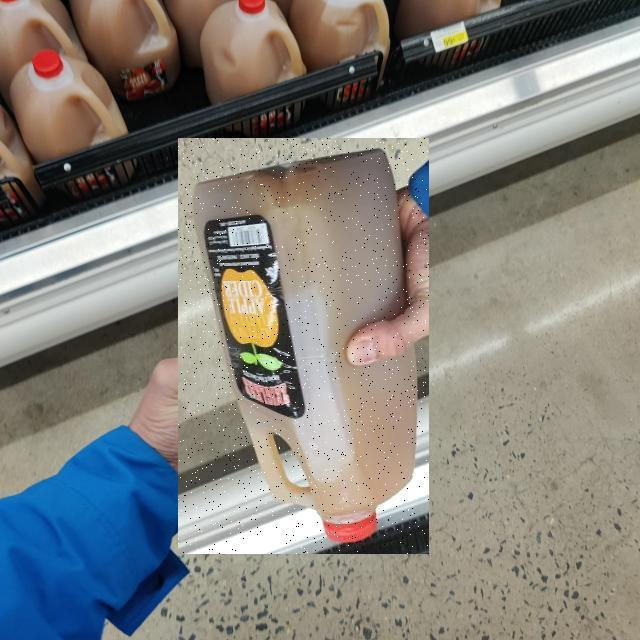Juice: (178, 138, 429, 554)
